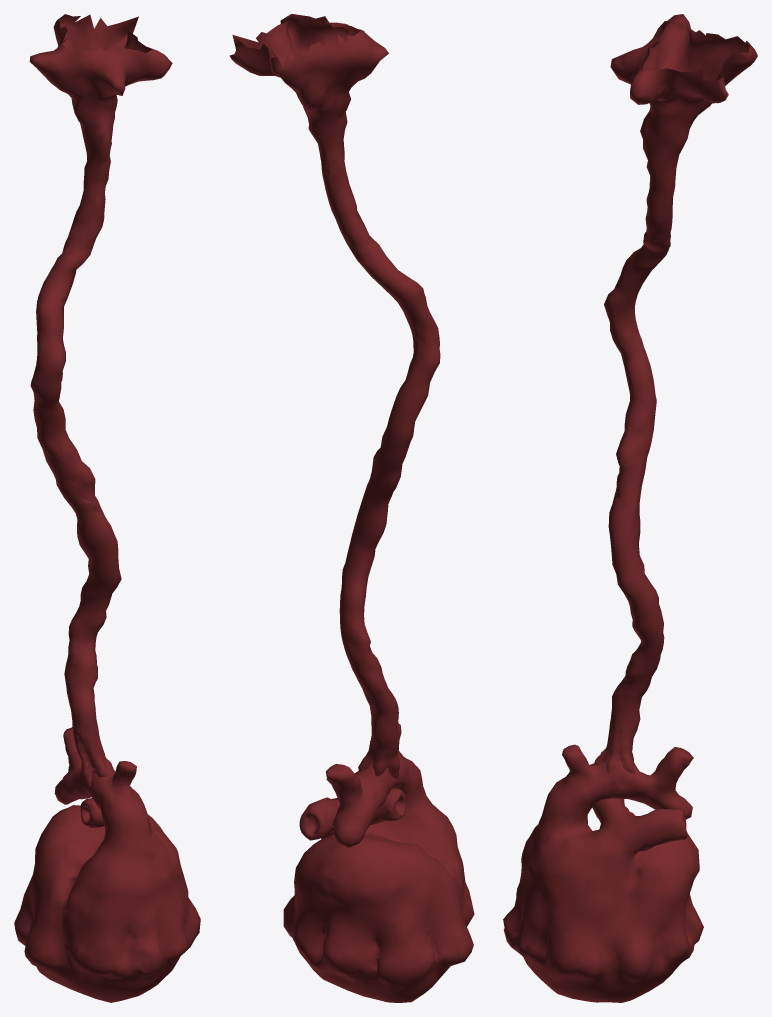
File: Heart.fbx
3 views of the same model, side by side, from view 1: azimuth 30°, elevation 25°; view 2: azimuth 150°, elevation 25°; view 3: azimuth 270°, elevation 25° (orthographic). The views are drawn at different scales.
Parts seen in each view (by area): view 1: Cube, BézierCurve; view 2: Cube, BézierCurve; view 3: Cube, BézierCurve.
Boxes of the visible parts, bbox=[...] form: Cube: bbox=[14, 727, 200, 1002]; BézierCurve: bbox=[29, 14, 172, 788]; Cube: bbox=[283, 724, 474, 1002]; BézierCurve: bbox=[229, 14, 440, 778]; Cube: bbox=[503, 740, 703, 1002]; BézierCurve: bbox=[594, 14, 757, 774].
Bounding box in the file's own units: 1941 × 10227 × 2448.
